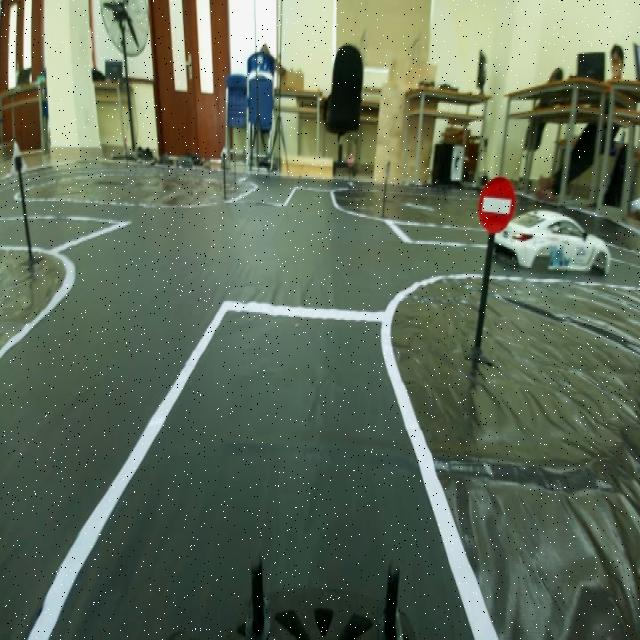no_entry: (474, 151, 518, 236)
